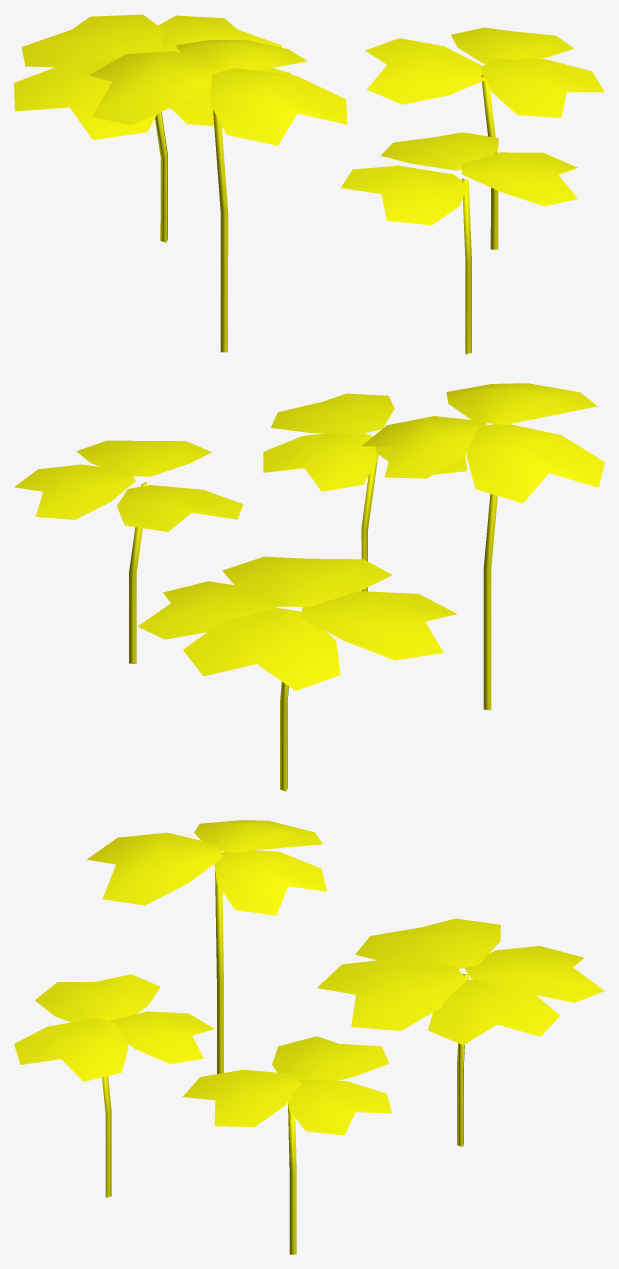
The model's file is Clover_1.fbx.
3 views of the same model, one above another, from view 1: azimuth 30°, elevation 25°; view 2: azimuth 150°, elevation 25°; view 3: azimuth 270°, elevation 25° (orthographic). The views are drawn at different scales.
Parts seen in each view (by area): view 1: Clover_1; view 2: Clover_1; view 3: Clover_1.
Boxes of the visible parts, box(x1,y1,x2,y2) form: Clover_1: box(14, 14, 604, 354); Clover_1: box(14, 383, 604, 791); Clover_1: box(14, 820, 604, 1254).
Bounding box in the file's own units: 45.64 × 24.23 × 48.39.
